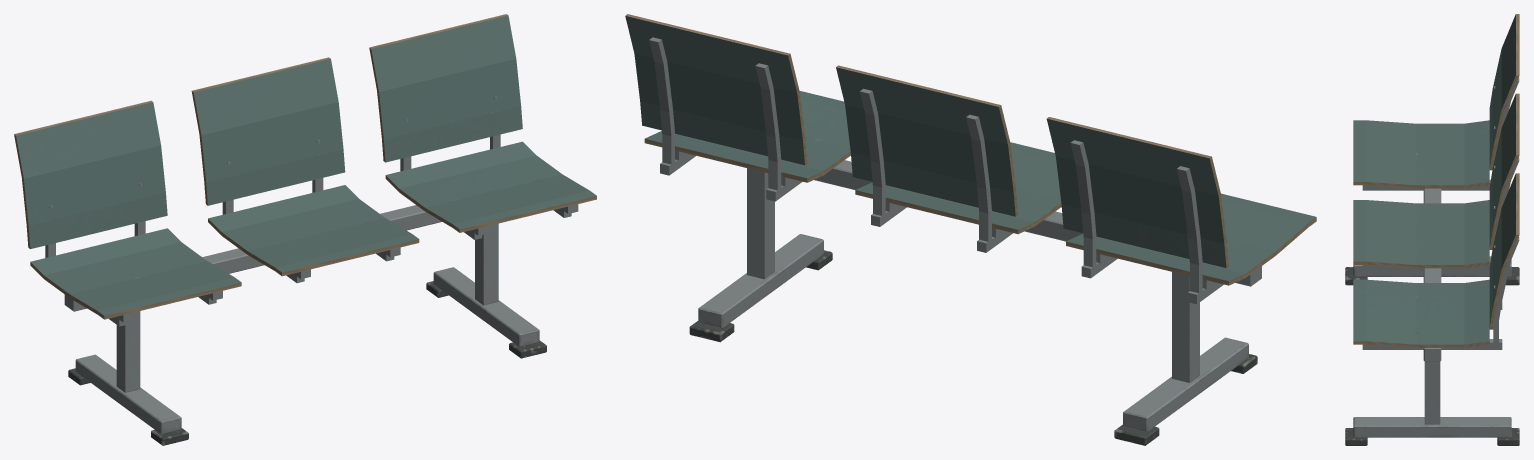
File: waiting_room_chair_row.glb
3 views of the same model, side by side, from view 1: azimuth 30°, elevation 25°; view 2: azimuth 150°, elevation 25°; view 3: azimuth 270°, elevation 25° (orthographic). The views are drawn at different scales.
Visible parts, largest first — view 1: WaitingChairRow; view 2: WaitingChairRow; view 3: WaitingChairRow.
Part boxes in pixels (bbox=[...]): WaitingChairRow: bbox=[14, 14, 596, 445]; WaitingChairRow: bbox=[625, 14, 1316, 445]; WaitingChairRow: bbox=[1345, 14, 1519, 445].
Size of what is drawn, in the model's own units: 1.65 by 0.82 by 0.55.
1 material, 1 textured.
